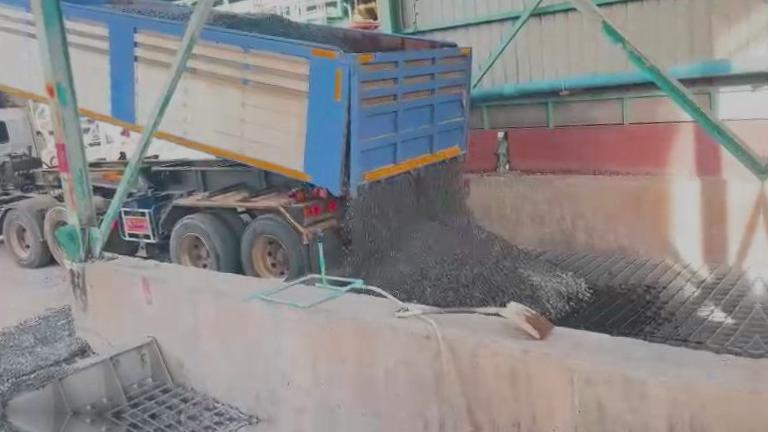gravel: (341, 162, 591, 320), (0, 307, 92, 407), (207, 9, 398, 52), (102, 0, 192, 22)
